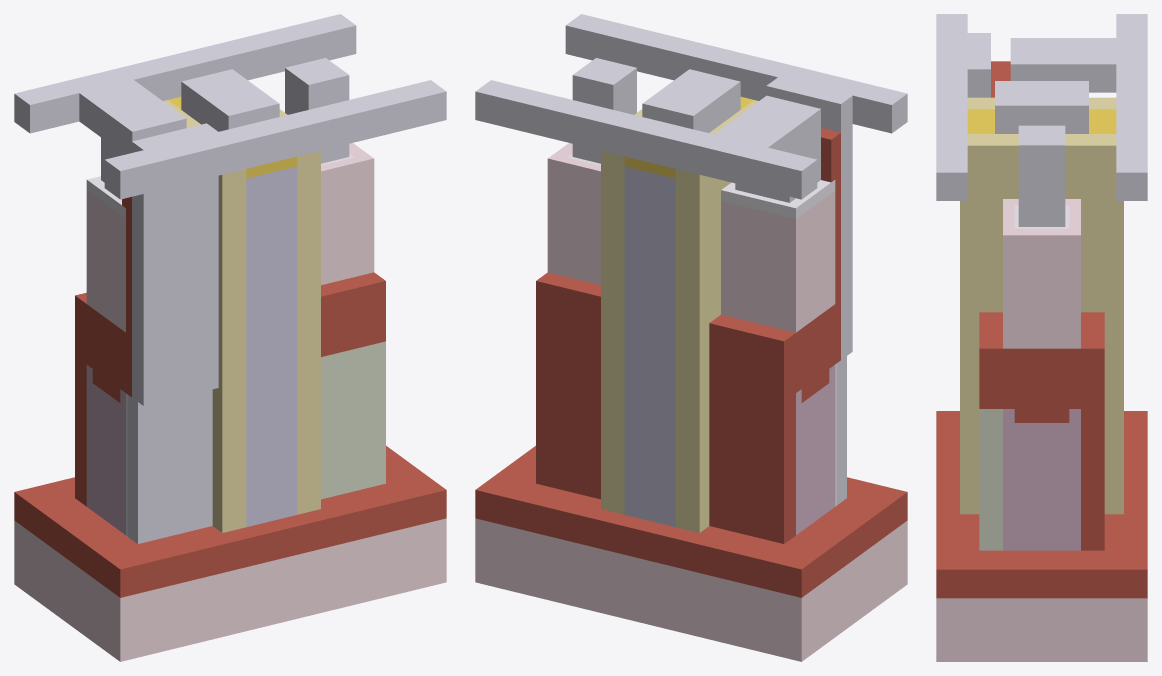
The model's file is inv_cfet.glb.
3 renders of one model, left to right at view 1: azimuth 30°, elevation 25°; view 2: azimuth 150°, elevation 25°; view 3: azimuth 270°, elevation 25°, orthographic.
Visible parts, largest first — view 1: ni_lo_source, substrate, box, mo, m1_gnd, m1_vdd, spacer_source, tiox_drain, spacer_drain, epi_n_drain, epi_p_source, iso_source (+7 smaller); view 2: substrate, box, iso_source, m1_gnd, mo, spacer_source, iso_drain, m1_vdd, epi_n_source, spacer_drain, epi_n_drain, epi_p_source (+7 smaller); view 3: spacer_drain, box, iso_drain, substrate, m1_gnd, epi_p_drain, epi_n_drain, m1_vdd, m1_in, tiox_drain, ni_drain, m1_out (+4 smaller).
Boxes of the visible parts, x1,y1,x2,y2 form: ni_lo_source: [128, 175, 218, 543]; substrate: [14, 518, 446, 661]; box: [14, 446, 446, 597]; mo: [246, 166, 297, 527]; m1_gnd: [14, 14, 356, 154]; m1_vdd: [104, 80, 446, 199]; spacer_source: [163, 100, 246, 532]; tiox_drain: [321, 341, 385, 499]; spacer_drain: [279, 109, 320, 514]; epi_n_drain: [321, 143, 374, 284]; epi_p_source: [86, 365, 125, 534]; iso_source: [75, 292, 125, 506]; substrate: [475, 518, 907, 661]; box: [475, 446, 907, 597]; iso_source: [709, 304, 835, 543]; m1_gnd: [475, 80, 820, 199]; mo: [624, 166, 675, 527]; spacer_source: [675, 100, 758, 532]; iso_drain: [536, 272, 600, 499]; m1_vdd: [565, 14, 907, 133]; epi_n_source: [721, 190, 835, 332]; spacer_drain: [601, 109, 642, 514]; epi_n_drain: [547, 143, 600, 284]; epi_p_source: [796, 365, 835, 534]; spacer_drain: [960, 134, 1123, 514]; box: [936, 411, 1147, 598]; iso_drain: [979, 312, 1104, 550]; substrate: [936, 598, 1147, 661]; m1_gnd: [1010, 14, 1147, 200]; epi_p_drain: [1003, 409, 1080, 550]; epi_n_drain: [1003, 199, 1080, 348]; m1_vdd: [936, 14, 990, 200]; m1_in: [995, 81, 1088, 133]; tiox_drain: [979, 409, 1002, 550]; ni_drain: [1018, 173, 1065, 226]; m1_out: [1018, 125, 1065, 173].
Bounding box in the file's own units: 96 × 138 × 54.
